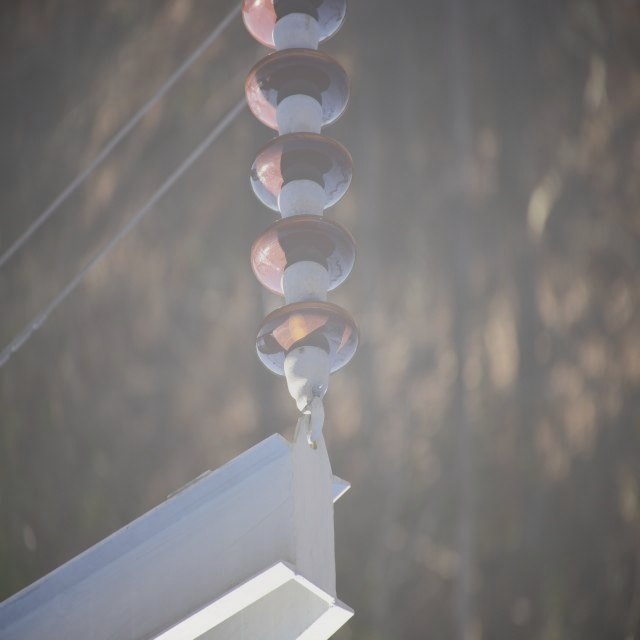insulator: (240, 0, 362, 379)
